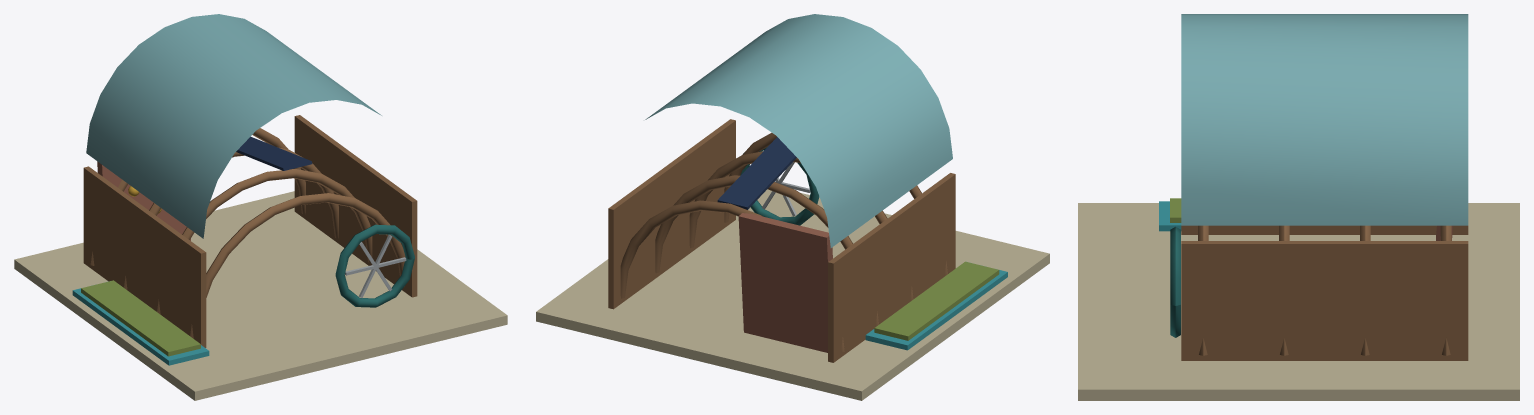
File: b08-harbor-gym-v2-lod0.glb
The picture shows the model from 3 angles, left to right: view 1: azimuth 30°, elevation 25°; view 2: azimuth 150°, elevation 25°; view 3: azimuth 270°, elevation 25°; orthographic projection. The views are drawn at different scales.
Parts seen in each view (by area): view 1: MESH_B08_HARBOR_GYM; view 2: MESH_B08_HARBOR_GYM; view 3: MESH_B08_HARBOR_GYM.
Part boxes in pixels (bbox=[...]): MESH_B08_HARBOR_GYM: bbox=[14, 14, 507, 400]; MESH_B08_HARBOR_GYM: bbox=[536, 14, 1049, 400]; MESH_B08_HARBOR_GYM: bbox=[1078, 14, 1519, 400].
Bounding box in the file's own units: 12 × 8.4 × 12.
